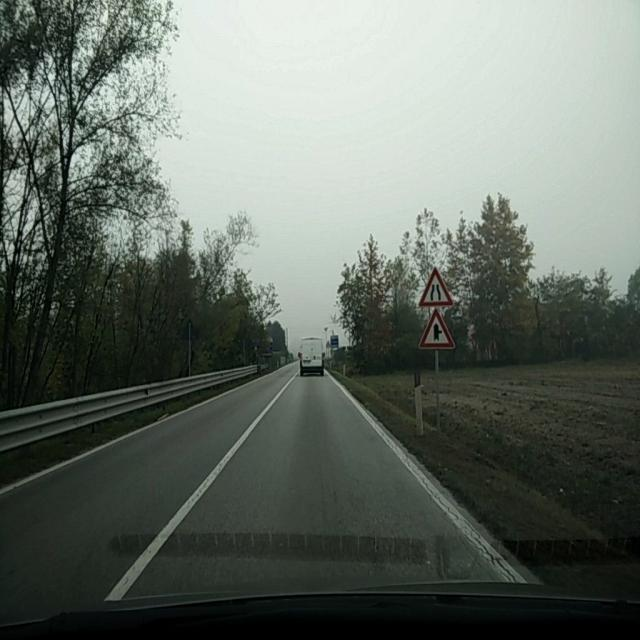car: (298, 336, 326, 377)
